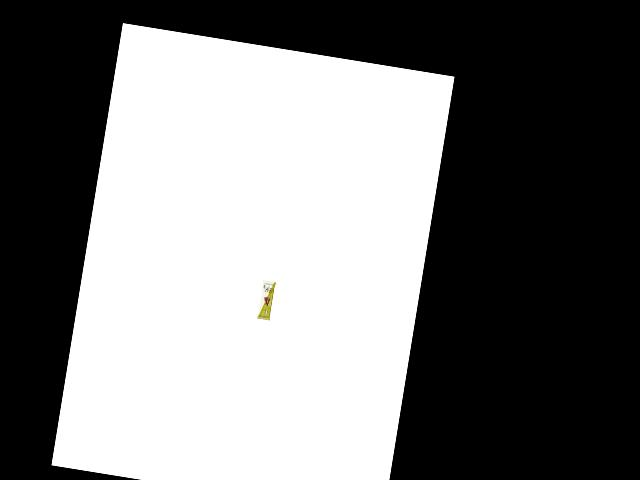chocolate: (253, 277, 280, 323)
